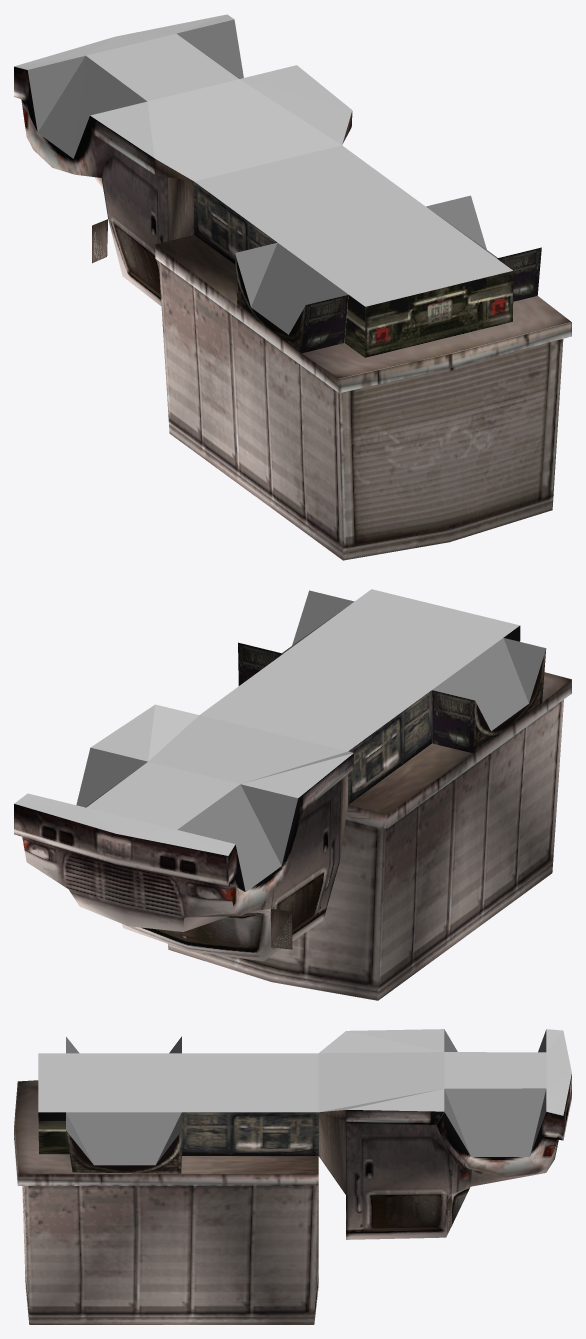
The model's file is VEGAS_model10_clean.obj.
3 renders of one model, top to bottom at view 1: azimuth 30°, elevation 25°; view 2: azimuth 150°, elevation 25°; view 3: azimuth 270°, elevation 25°, orthographic. The views are drawn at different scales.
Parts seen in each view (by area): view 1: VEGAS_model10_clean; view 2: VEGAS_model10_clean; view 3: VEGAS_model10_clean.
Boxes of the visible parts, x1,y1,x2,y2 form: VEGAS_model10_clean: (14,14,571,560); VEGAS_model10_clean: (14,589,571,1000); VEGAS_model10_clean: (14,1029,571,1324).
Bounding box in the file's own units: 366 × 396 × 914.
